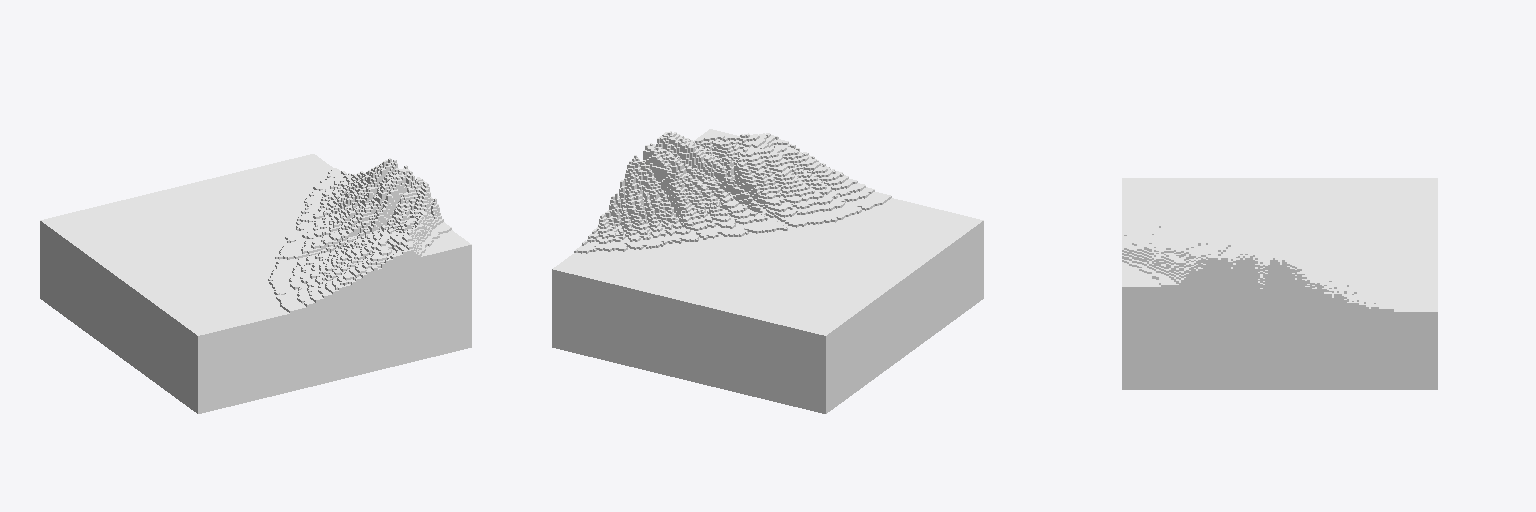
Rendered from MapⅤ2-2.obj.
3 views of the same model, side by side, from view 1: azimuth 30°, elevation 25°; view 2: azimuth 150°, elevation 25°; view 3: azimuth 270°, elevation 25° (orthographic).
Visible parts, largest first — view 1: object 1; view 2: object 1; view 3: object 1.
Boxes of the visible parts, box(x1,y1,x2,y2) form: object 1: box(40, 154, 471, 413); object 1: box(552, 129, 983, 413); object 1: box(1122, 178, 1437, 389).
Size of the model in its own units: 12.8 by 6 by 12.8.